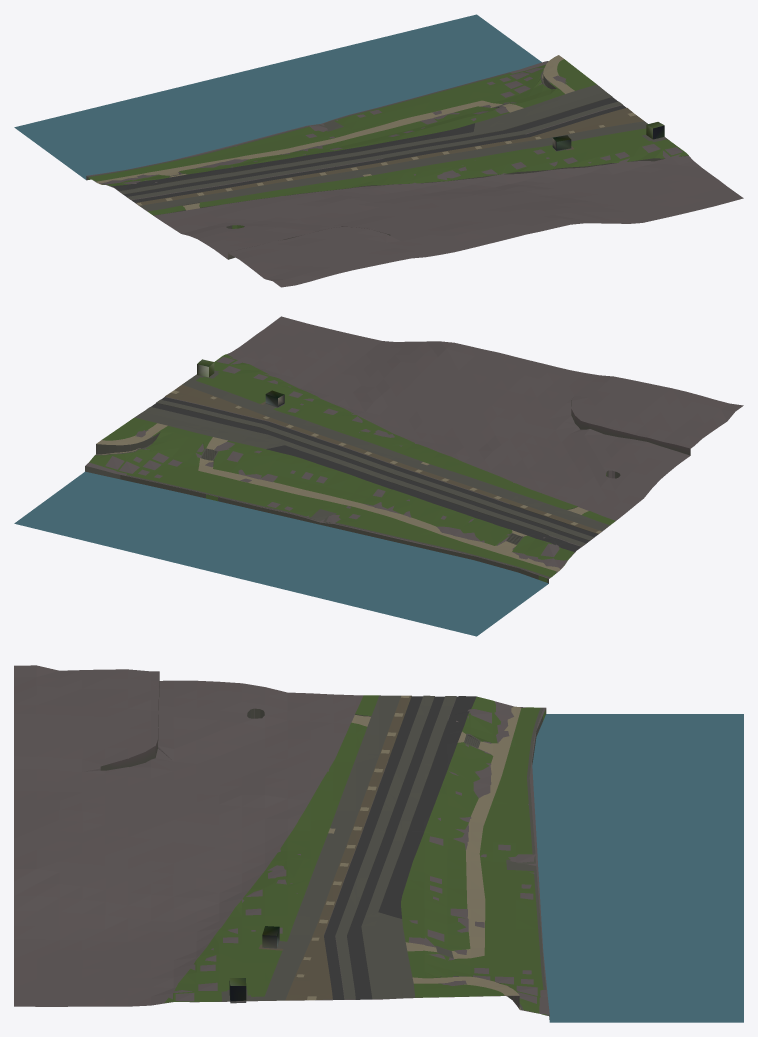
3 views of the same model, one above another, from view 1: azimuth 30°, elevation 25°; view 2: azimuth 150°, elevation 25°; view 3: azimuth 270°, elevation 25° (orthographic). The views are drawn at different scales.
Visible parts, largest first — view 1: c_m02_m06; view 2: c_m02_m06; view 3: c_m02_m06.
Boxes of the visible parts, x1,y1,x2,y2 form: c_m02_m06: [14, 14, 743, 287]; c_m02_m06: [14, 316, 743, 636]; c_m02_m06: [14, 665, 743, 1022].
Bounding box in the file's own units: 128 × 9.39 × 128.
